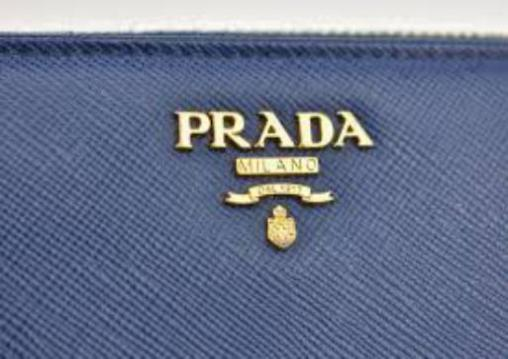PRADA: (168, 101, 375, 157)
